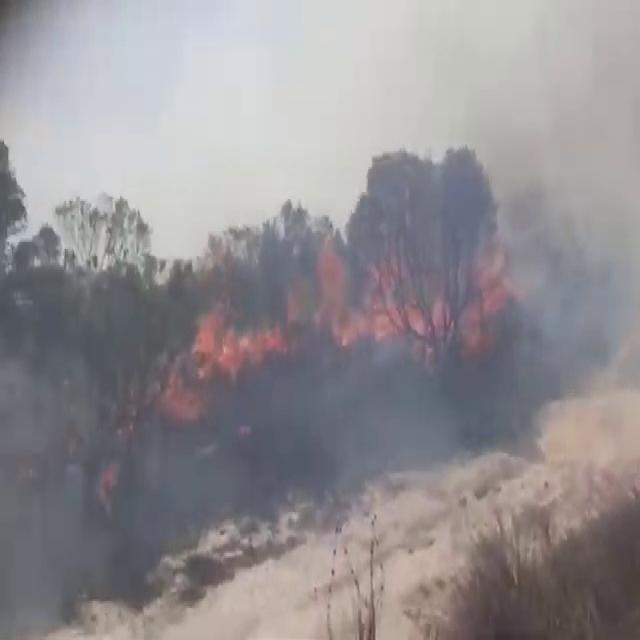Smoke: (485, 0, 640, 464), (77, 294, 505, 412), (301, 232, 537, 292), (87, 439, 123, 526)
